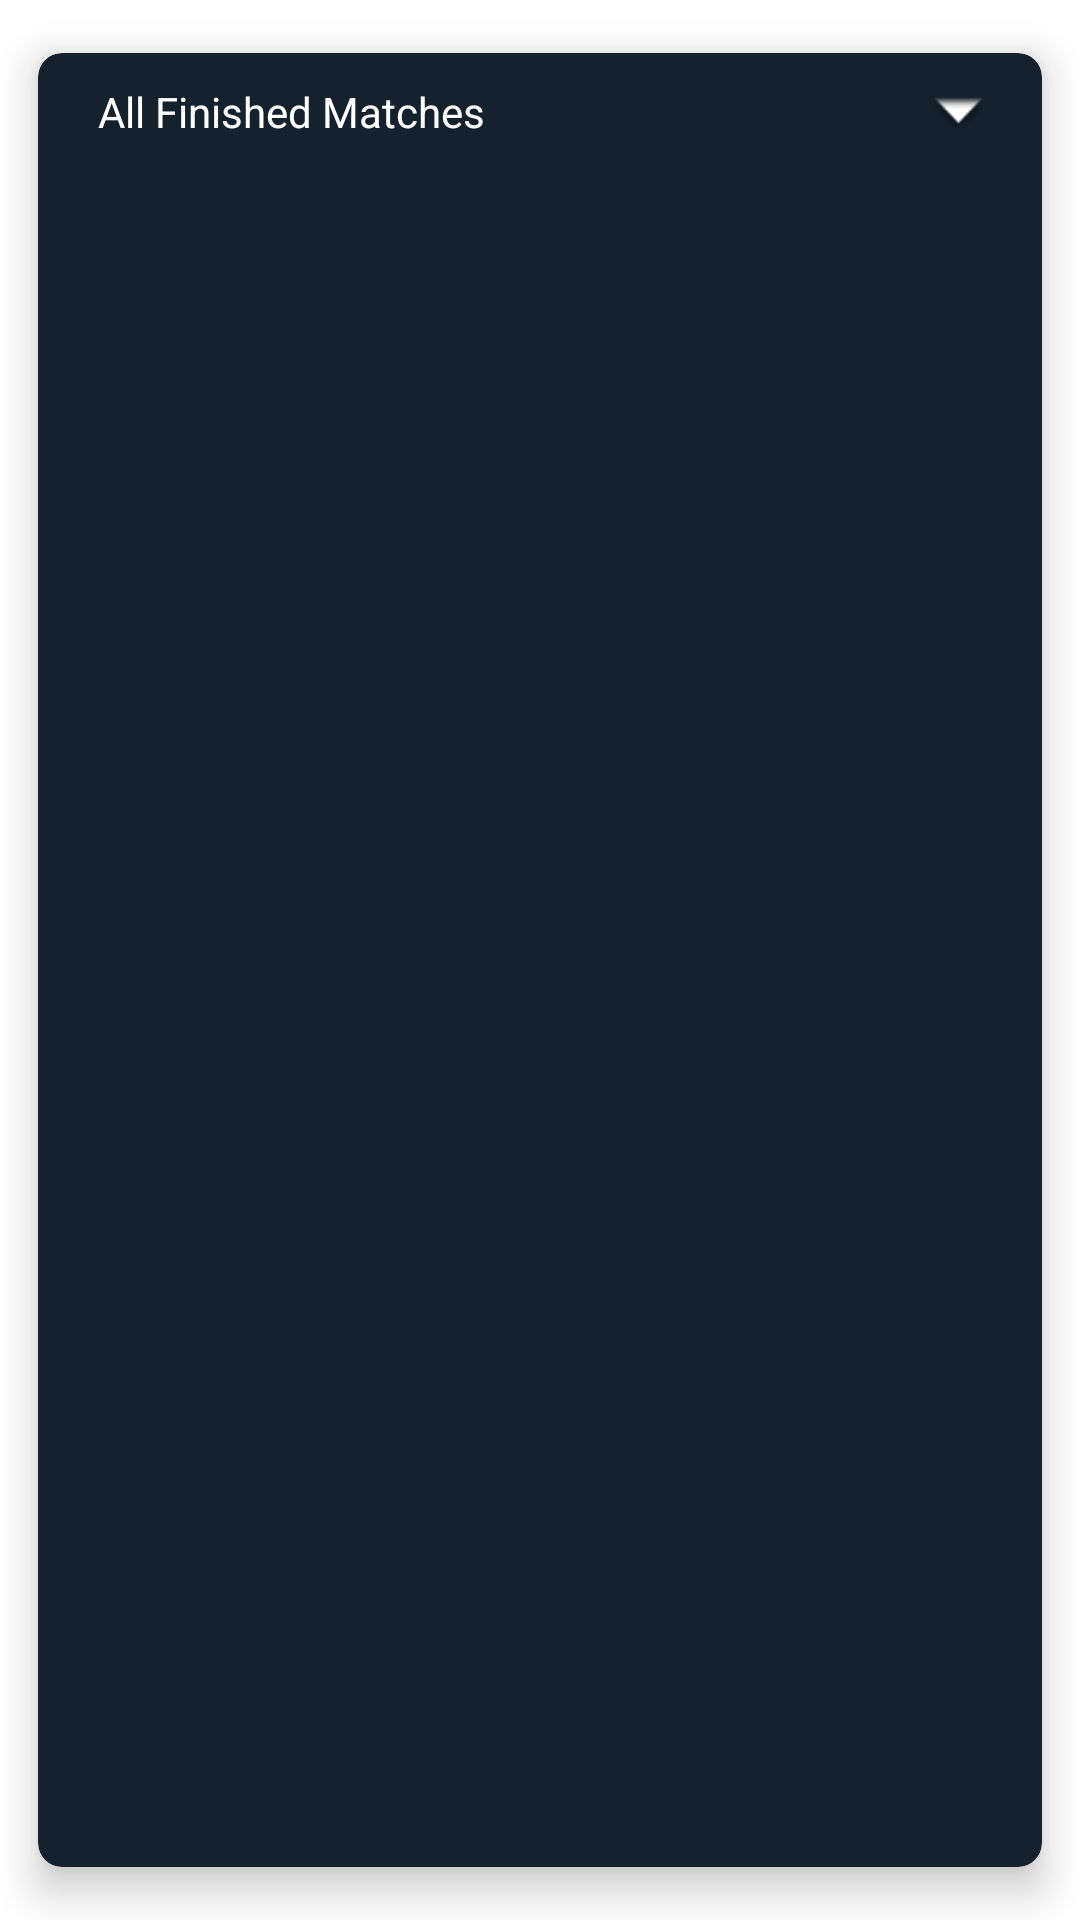

Screen size 1080×1920. Icon name, then its center in pixels as [x,y]:
arrow down float: [958,110]
